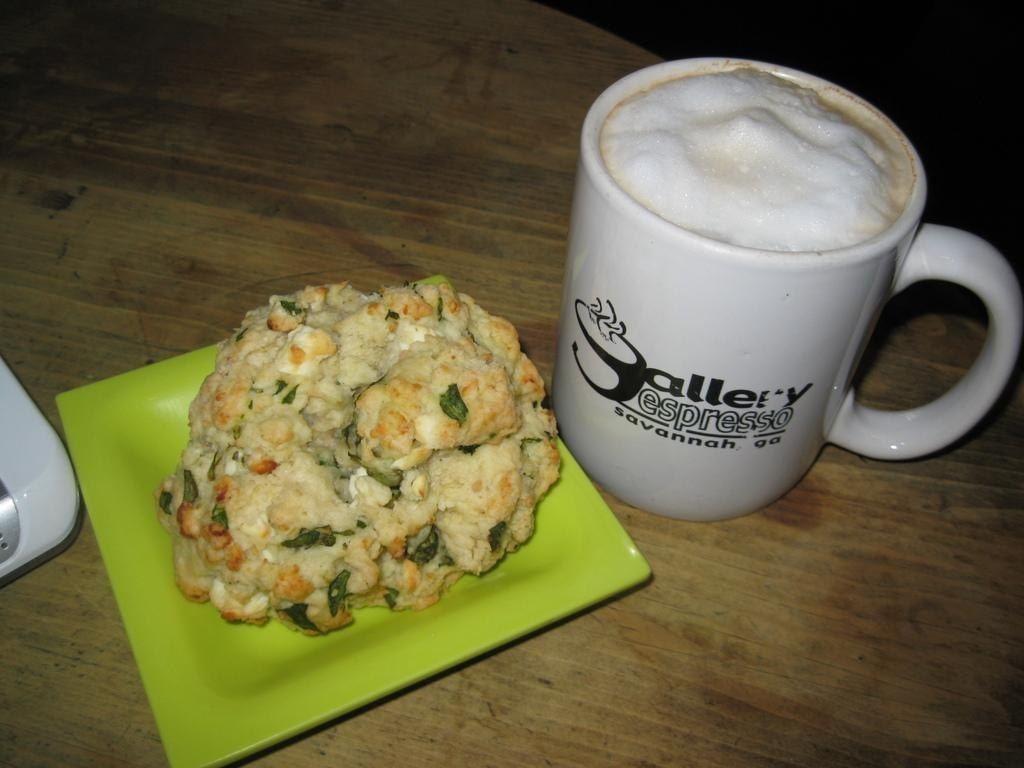cup-handle: (548, 51, 1024, 523)
